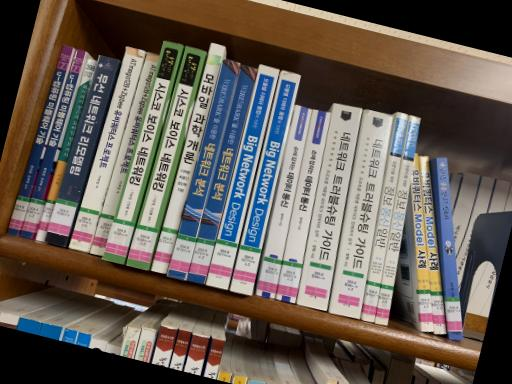book-spine: (100, 41, 183, 265), (126, 46, 206, 271), (150, 43, 224, 275), (206, 64, 280, 290), (167, 59, 239, 281), (229, 71, 300, 296), (68, 47, 145, 253), (187, 65, 257, 284), (89, 52, 159, 257), (43, 56, 118, 247), (328, 109, 394, 319), (297, 103, 362, 311), (6, 45, 72, 236), (19, 49, 85, 239), (34, 59, 96, 242), (275, 110, 331, 304), (256, 105, 311, 299), (362, 112, 408, 323), (375, 116, 420, 326), (419, 157, 446, 335), (436, 157, 462, 340), (410, 154, 433, 333)
